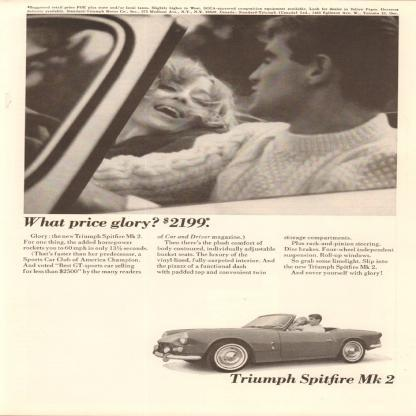car: (154, 313, 384, 375)
